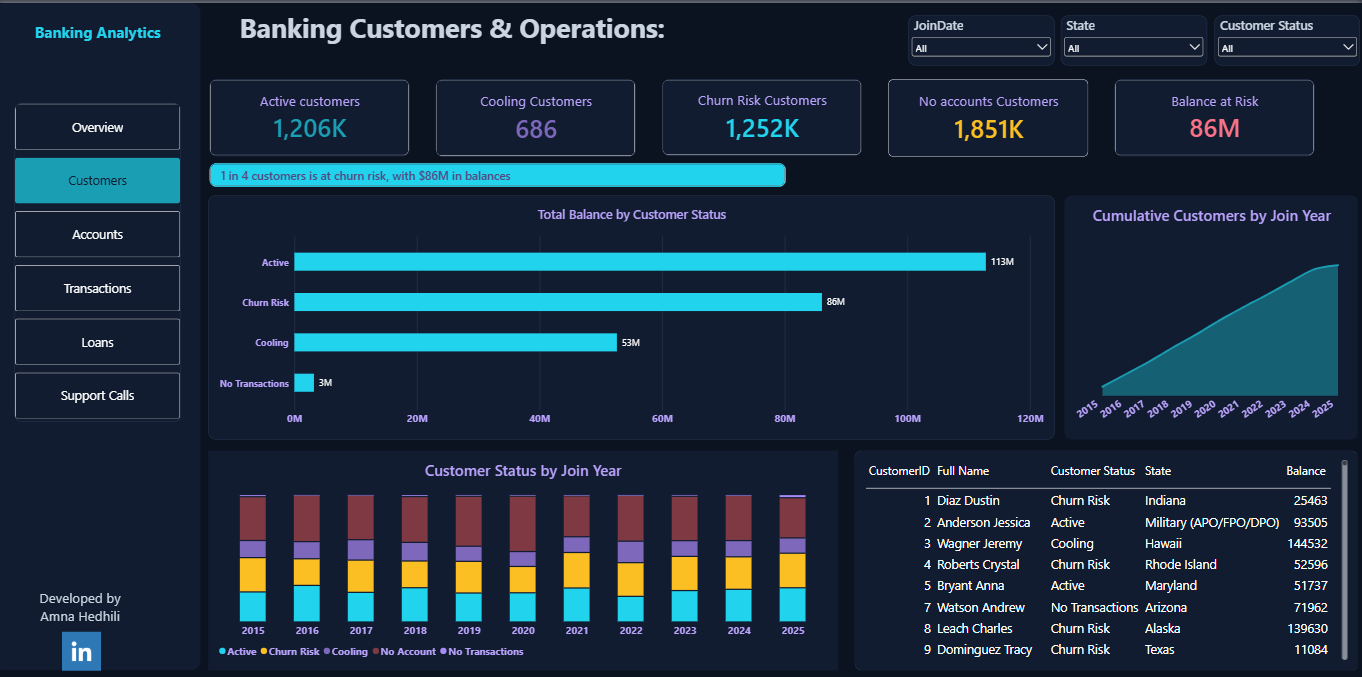

Layout of this report page (visuals, bound fields, positions):
{"tool":"powerbi","page":{"name":"Customers","canvas":[2200,1080],"ordinal":1},"visuals":[{"type":"cardVisual","fields":{"Data":["customers measures.Active customers"]},"box":[348,122,320,123],"z":0},{"type":"textbox","box":[396,10,826,100],"z":1000},{"type":"cardVisual","title":"Valid Cards","fields":{"Data":["customers measures.customers with no accounts"]},"box":[1433.9,122,320,124],"z":2000},{"type":"cardVisual","fields":{"Data":["customers measures.Cooling Customers"]},"box":[709.6,122,320,124],"z":3000},{"type":"cardVisual","fields":{"Data":["customers measures.Churn Risk Customers"]},"box":[1071.8,122,320,122],"z":4000},{"type":"cardVisual","fields":{"Data":["customers measures.Balance at Risk"]},"box":[1796,122,320,123],"z":5000},{"type":"clusteredBarChart","title":"Total Balance by Customer Status","fields":{"Category":["customers.Customer Status"],"Y":["Measures Table.Total Balance"]},"box":[346,308,1354,390],"z":6000},{"type":"hundredPercentStackedColumnChart","title":"Customer Status by Join Year","fields":{"Category":["customers.JoinDate.Variation.Date Hierarchy.Year"],"Series":["customers.Customer Status"],"Y":["customers measures.Total Customers"]},"box":[346,716,1008,352],"z":7000},{"type":"slicer","fields":{"Values":["customers.JoinDate"]},"box":[1465.6,20,234,80],"z":8000},{"type":"slicer","fields":{"Values":["customers.State"]},"box":[1710.6,20,234,80],"z":9000},{"type":"slicer","fields":{"Values":["customers.Customer Status"]},"box":[1955.6,20,234,80],"z":10000},{"type":"areaChart","title":"Cumulative Customers by Join Year","fields":{"Category":["Calendar.Year"],"Y":["Measures Table.Customers to Date"]},"box":[1716,308,470,390],"z":11000},{"type":"shape","box":[4,0,330,1068],"z":12000},{"type":"textbox","box":[20,30,298,100],"z":13000},{"type":"tableEx","fields":{"Values":["customers.CustomerID","customers.Full Name","customers.Customer Status","customers.State","Sum(accounts.Balance)"]},"box":[1380,716,806,352],"z":14000},{"type":"pageNavigator","box":[36,160,266,510],"z":15000},{"type":"textbox","box":[36,936,210,64],"z":15001},{"type":"cardVisual","fields":{"Data":["customers measures.Customers Takeaway"]},"box":[348,255,922,38],"z":15002},{"type":"image","box":[108,1006,70,62],"z":15003}]}

Visuals, with their boxes in screenshot pixels (x1, y1, x2, y2), scaled from the page's 2200x1080 canvas onto the 1362x677 screenshot:
cardVisual - customers measures.Active customers: {"left": 215, "top": 76, "right": 414, "bottom": 154}
textbox: {"left": 245, "top": 6, "right": 757, "bottom": 69}
"Valid Cards" cardVisual: {"left": 888, "top": 76, "right": 1086, "bottom": 154}
cardVisual - customers measures.Cooling Customers: {"left": 439, "top": 76, "right": 637, "bottom": 154}
cardVisual - customers measures.Churn Risk Customers: {"left": 664, "top": 76, "right": 862, "bottom": 153}
cardVisual - customers measures.Balance at Risk: {"left": 1112, "top": 76, "right": 1310, "bottom": 154}
"Total Balance by Customer Status" clusteredBarChart: {"left": 214, "top": 193, "right": 1052, "bottom": 438}
"Customer Status by Join Year" hundredPercentStackedColumnChart: {"left": 214, "top": 449, "right": 838, "bottom": 669}
slicer - customers.JoinDate: {"left": 907, "top": 13, "right": 1052, "bottom": 63}
slicer - customers.State: {"left": 1059, "top": 13, "right": 1204, "bottom": 63}
slicer - customers.Customer Status: {"left": 1211, "top": 13, "right": 1356, "bottom": 63}
"Cumulative Customers by Join Year" areaChart: {"left": 1062, "top": 193, "right": 1353, "bottom": 438}
shape: {"left": 2, "top": 0, "right": 207, "bottom": 669}
textbox: {"left": 12, "top": 19, "right": 197, "bottom": 81}
tableEx - customers.CustomerID x customers.Full Name: {"left": 854, "top": 449, "right": 1353, "bottom": 669}
pageNavigator: {"left": 22, "top": 100, "right": 187, "bottom": 420}
textbox: {"left": 22, "top": 587, "right": 152, "bottom": 627}
cardVisual - customers measures.Customers Takeaway: {"left": 215, "top": 160, "right": 786, "bottom": 184}
image: {"left": 67, "top": 631, "right": 110, "bottom": 669}
